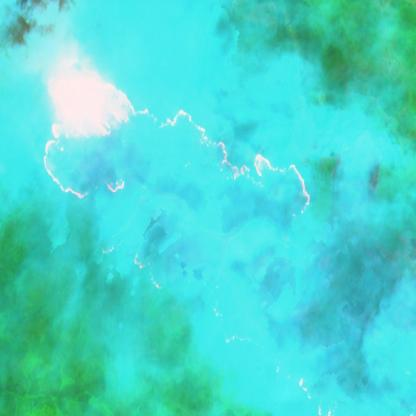fire: (42, 50, 314, 240)
